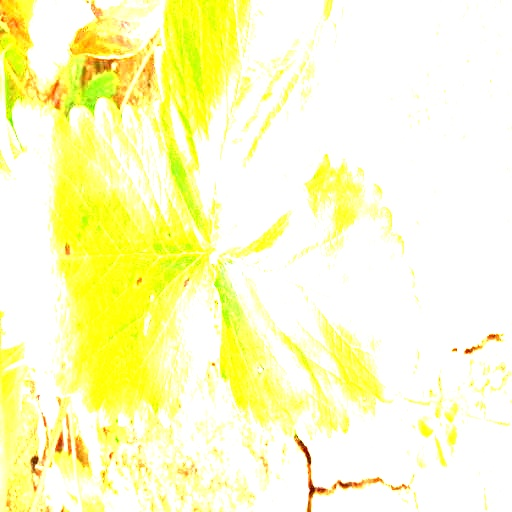Leaf Spot: (0, 96, 217, 434), (212, 153, 426, 442), (151, 0, 341, 250)
